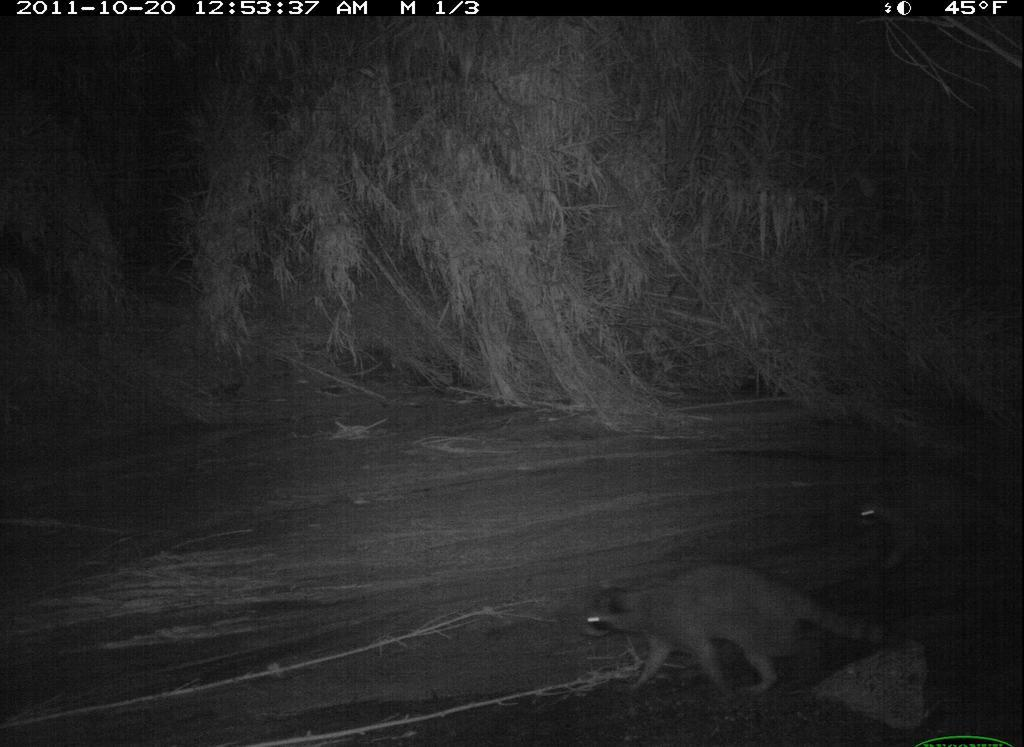raccoon: (852, 481, 1024, 578)
